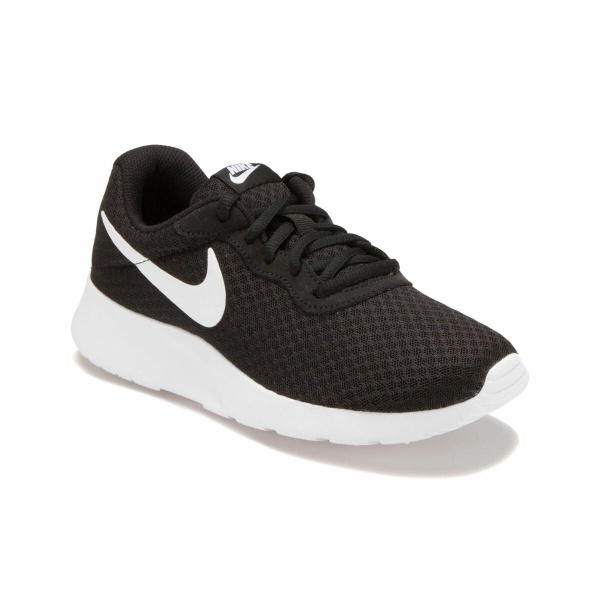nike: (102, 211, 234, 333)
